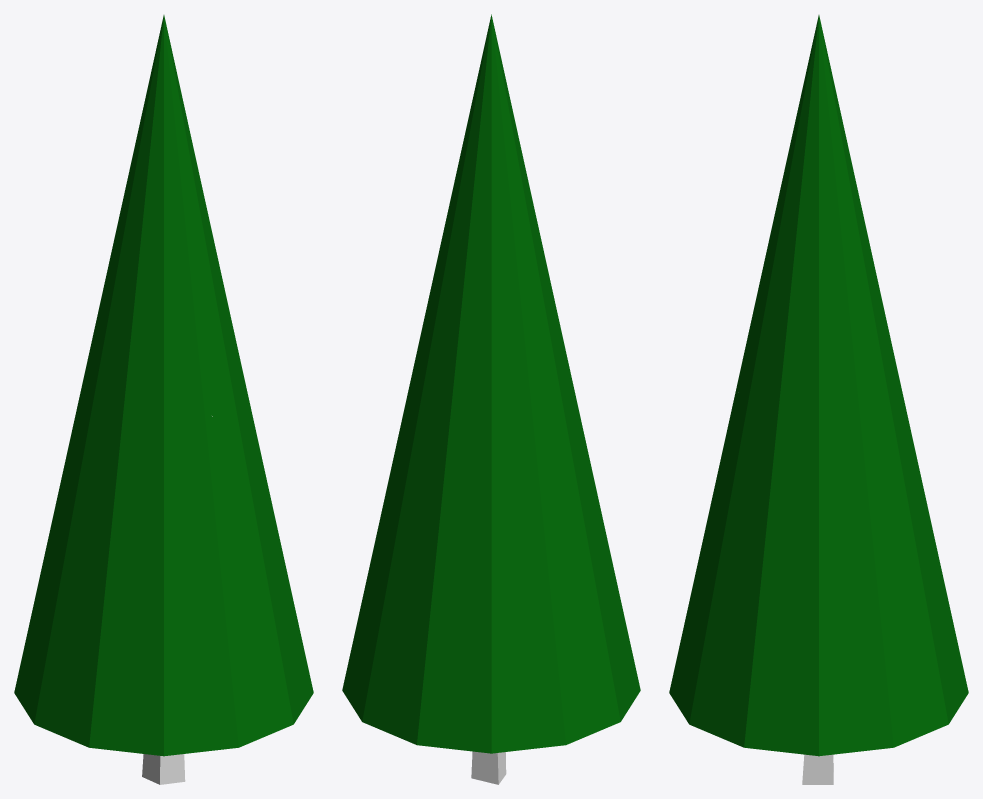
File: Tree2.fbx
3 renders of one model, left to right at view 1: azimuth 30°, elevation 25°; view 2: azimuth 150°, elevation 25°; view 3: azimuth 270°, elevation 25°, orthographic.
Parts seen in each view (by area): view 1: Cube; view 2: Cube; view 3: Cube.
Boxes of the visible parts, x1,y1,x2,y2 form: Cube: (14,15,313,784); Cube: (342,14,640,784); Cube: (669,15,968,784).
Bounding box in the file's own units: 600 × 1690 × 600.
